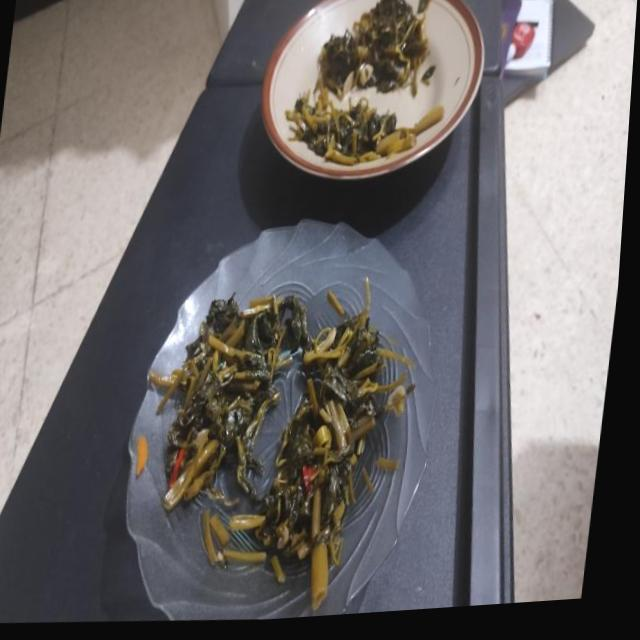tumis_kangkung: (264, 295, 384, 608), (165, 295, 306, 510), (318, 0, 432, 98), (286, 88, 416, 166)
